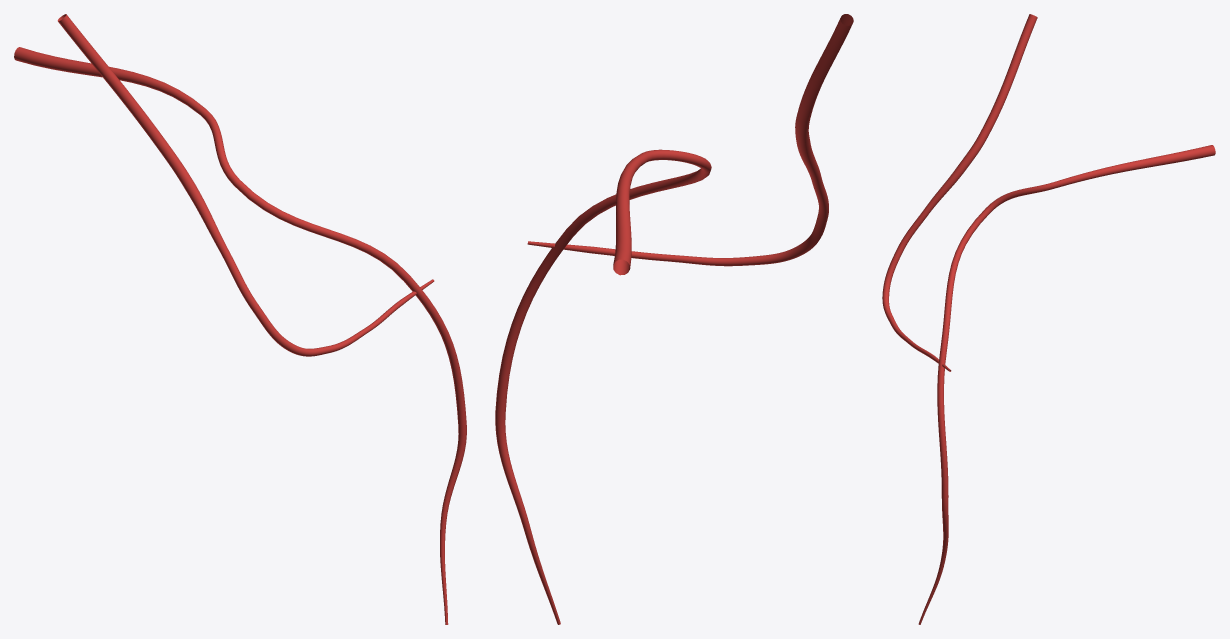
3 views of the same model, side by side, from view 1: azimuth 30°, elevation 25°; view 2: azimuth 150°, elevation 25°; view 3: azimuth 270°, elevation 25° (orthographic). The views are drawn at different scales.
Parts seen in each view (by area): view 1: 右侧咽升动脉; view 2: 右侧咽升动脉; view 3: 右侧咽升动脉.
Part boxes in pixels (x1,y1,x2,y2): 右侧咽升动脉: [14, 14, 466, 624]; 右侧咽升动脉: [495, 14, 853, 624]; 右侧咽升动脉: [882, 14, 1215, 624].
Bounding box in the file's own units: 0.0417 × 0.0717 × 0.0439.
